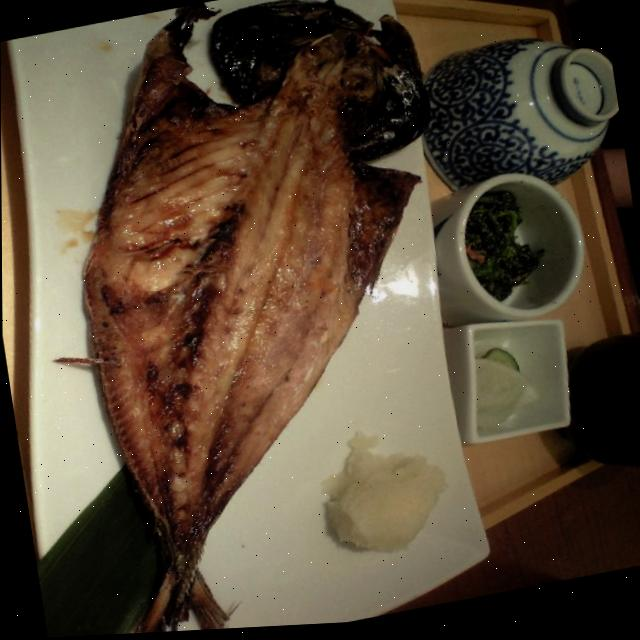熟制海鲜: (40, 0, 498, 638)
